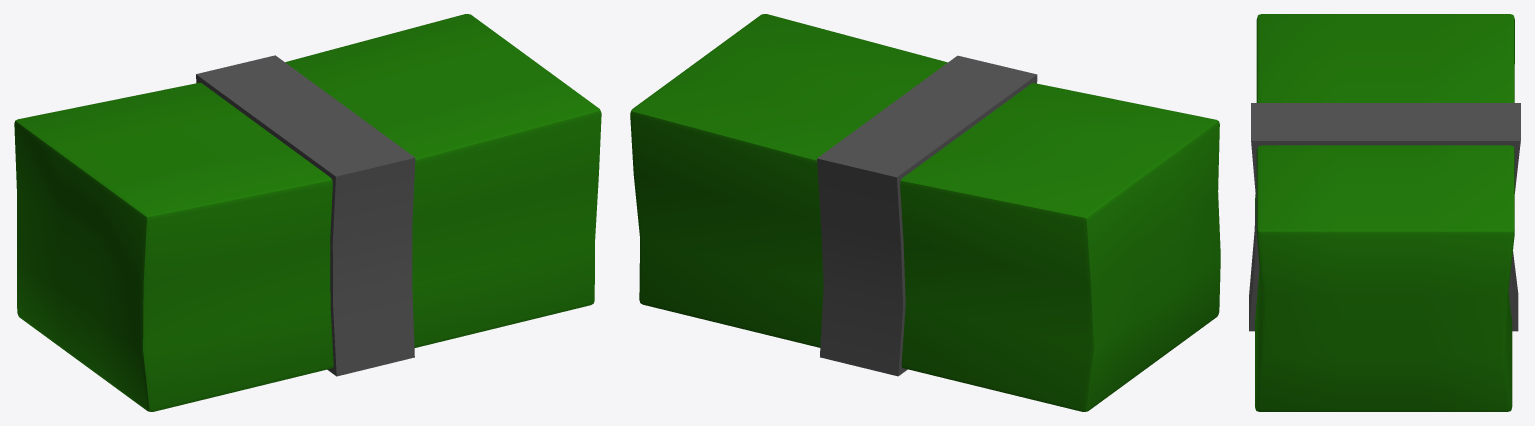
Rendered from Money_v1.fbx.
The picture shows the model from 3 angles, left to right: view 1: azimuth 30°, elevation 25°; view 2: azimuth 150°, elevation 25°; view 3: azimuth 270°, elevation 25°; orthographic projection. The views are drawn at different scales.
Parts seen in each view (by area): view 1: Money_Block; view 2: Money_Block; view 3: Money_Block.
Boxes of the visible parts, bbox=[...] form: Money_Block: bbox=[14, 14, 601, 411]; Money_Block: bbox=[630, 14, 1220, 411]; Money_Block: bbox=[1249, 14, 1520, 411].
Size of the model in its own units: 103 by 43.2 by 54.64.
